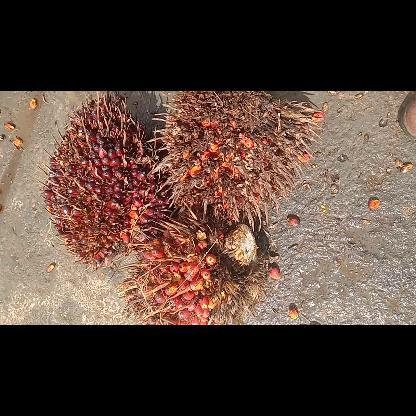TBS masak: (37, 91, 172, 271), (115, 200, 267, 324)
Terlalu masak: (146, 91, 322, 230)
